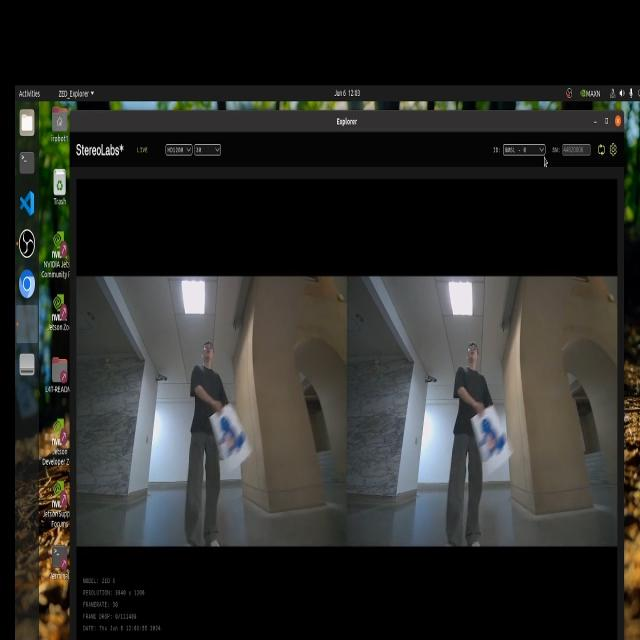blue: (217, 412, 264, 462), (478, 410, 504, 463)
